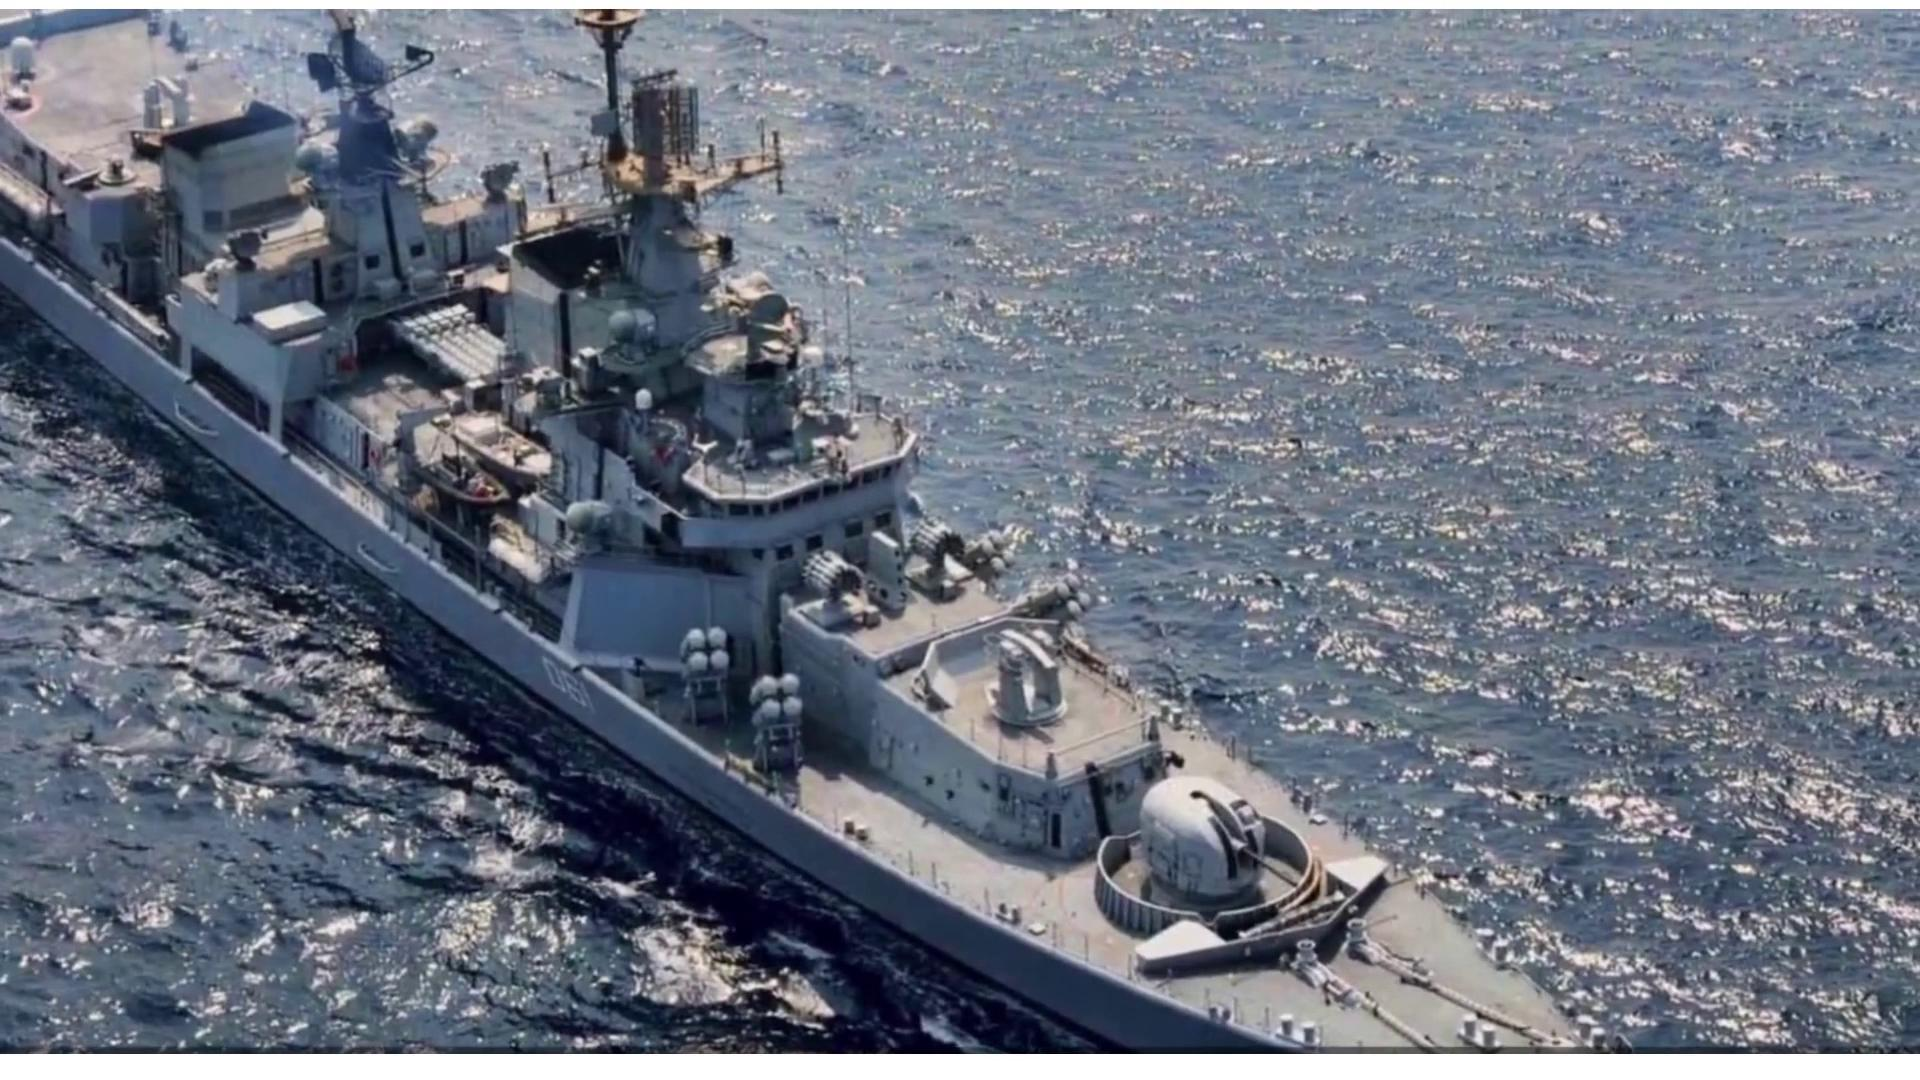OCR: (529, 650, 608, 730)
